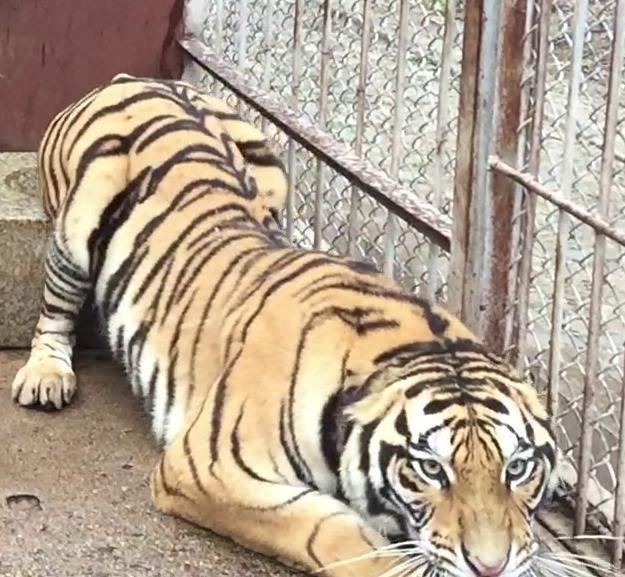tiger: (12, 74, 609, 576)
